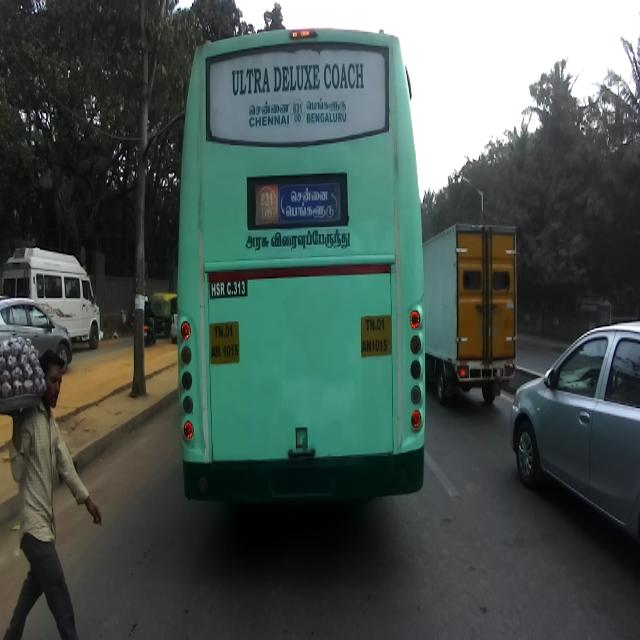bus ahead at: (187, 31, 426, 505)
car ahead at: (514, 320, 640, 540)
person ahead at: (0, 338, 106, 640)
tree ahead at: (122, 8, 168, 402)
truck ahead at: (430, 224, 518, 398)
